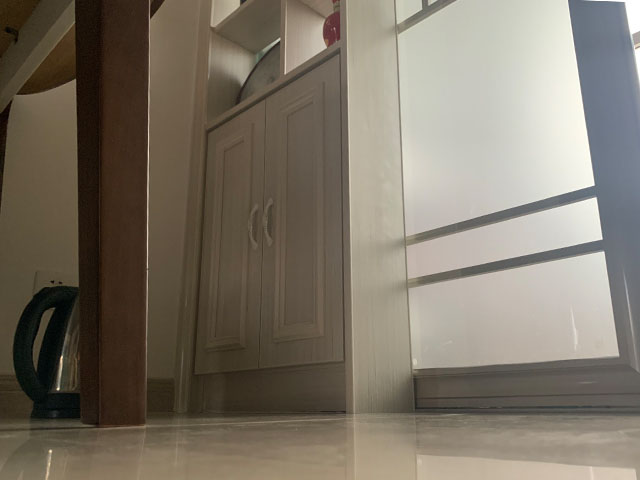cabinet: (173, 39, 392, 416)
